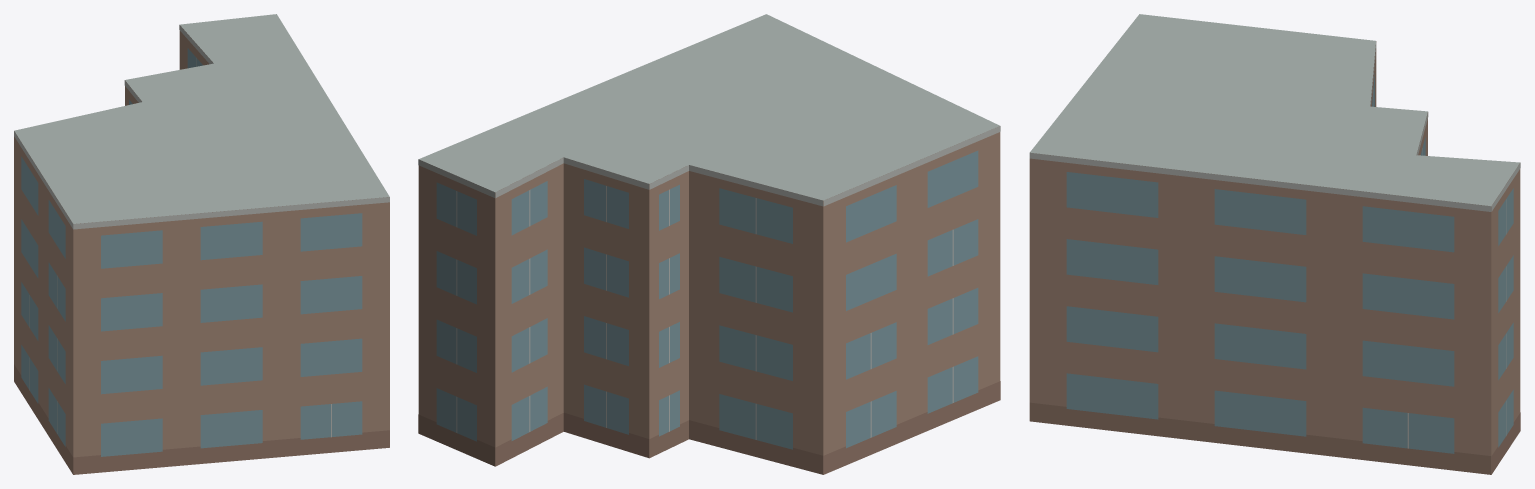
The model's file is survey-upis-32920863.glb.
3 renders of one model, left to right at view 1: azimuth 30°, elevation 25°; view 2: azimuth 150°, elevation 25°; view 3: azimuth 270°, elevation 25°, orthographic. The views are drawn at different scales.
Visible parts, largest first — view 1: survey-upis-32920863.tmp; view 2: survey-upis-32920863.tmp; view 3: survey-upis-32920863.tmp.
Part boxes in pixels (x1=…): survey-upis-32920863.tmp: x1=14, y1=14, x2=389, y2=474; survey-upis-32920863.tmp: x1=418, y1=14, x2=1000, y2=474; survey-upis-32920863.tmp: x1=1029, y1=14, x2=1520, y2=474.
Size of the model in its own units: 17.2 by 11.2 by 18.55.
